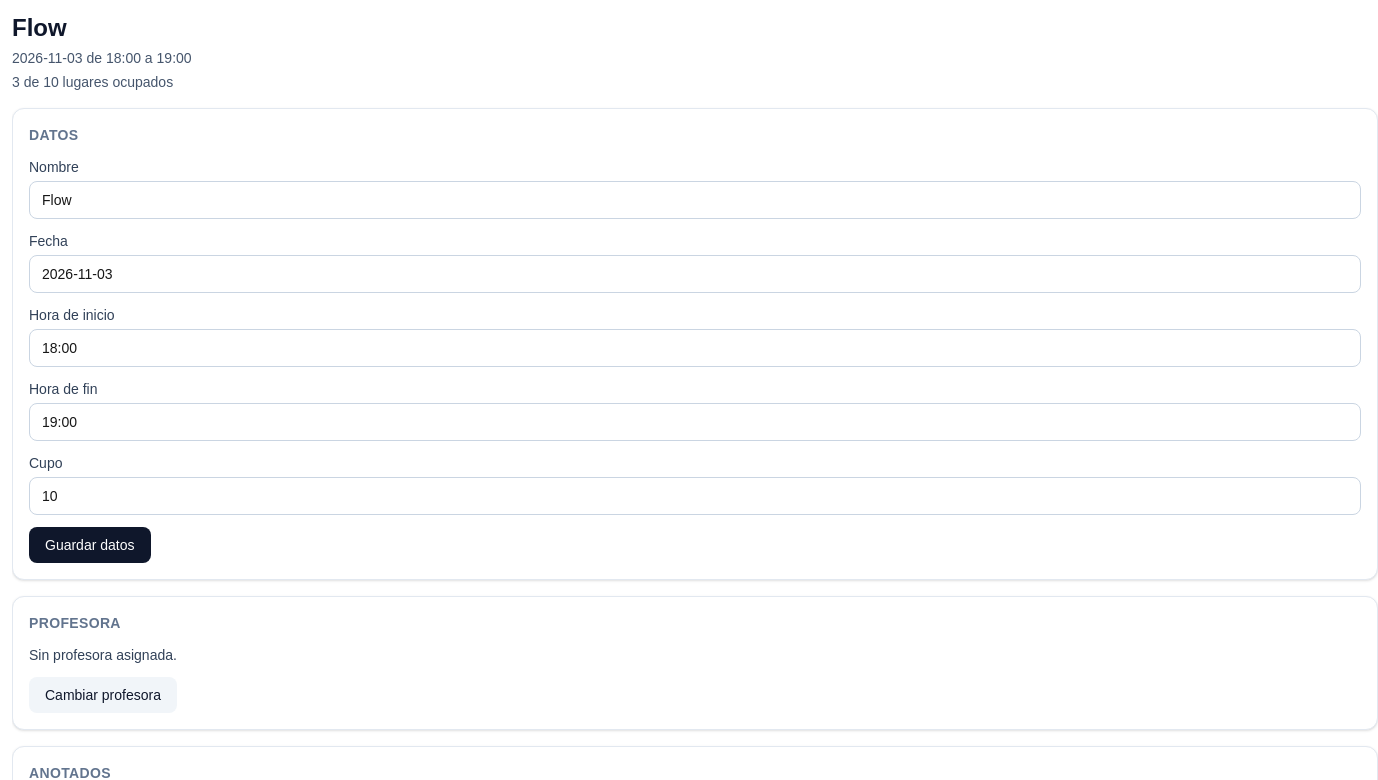
el bloque de datos › bajar el cupo por debajo de los anotados muestra el motivo de la API
The image size is (1378, 780).
Replace the text in the field labelled "Cupo" with "2" at (695, 496), box [29,477,1361,515]
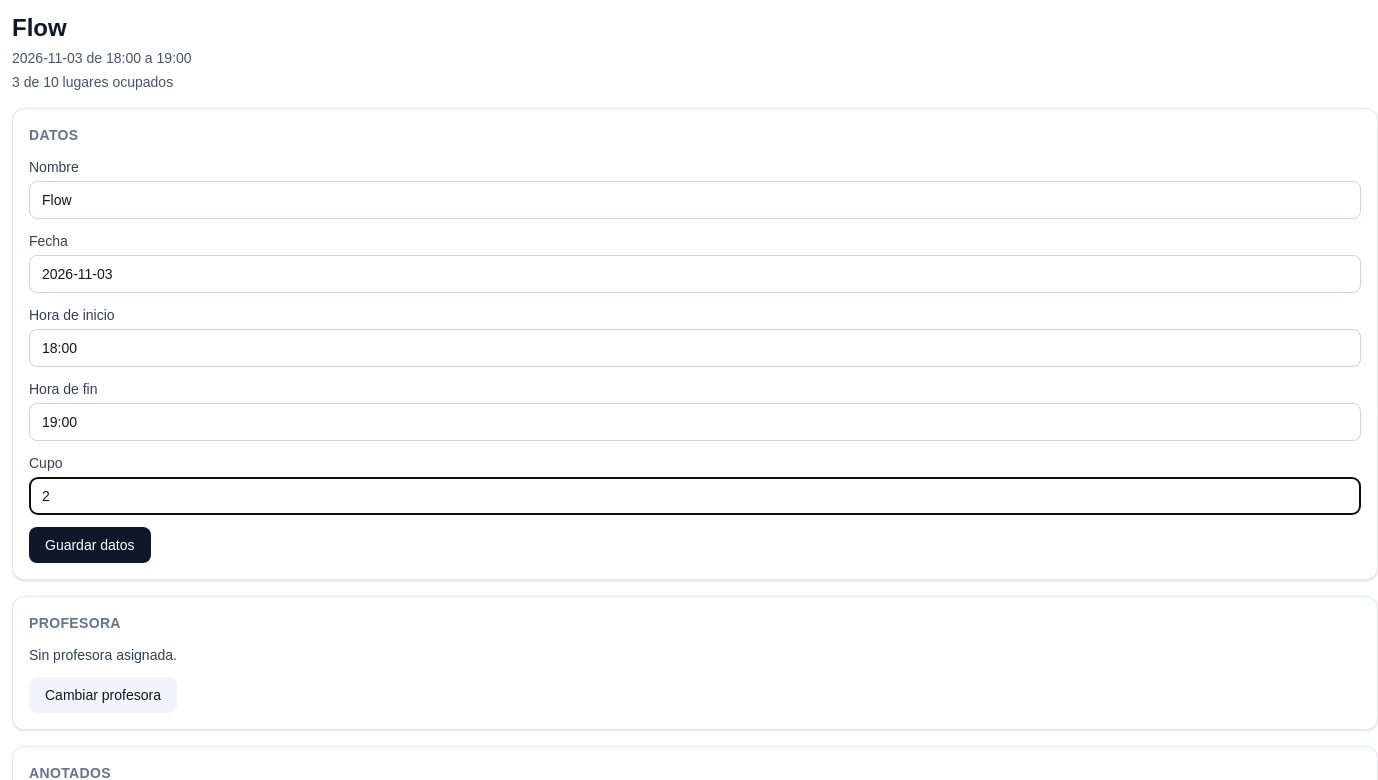
Click the button "Guardar datos" at (90, 545), box [29,527,150,563]
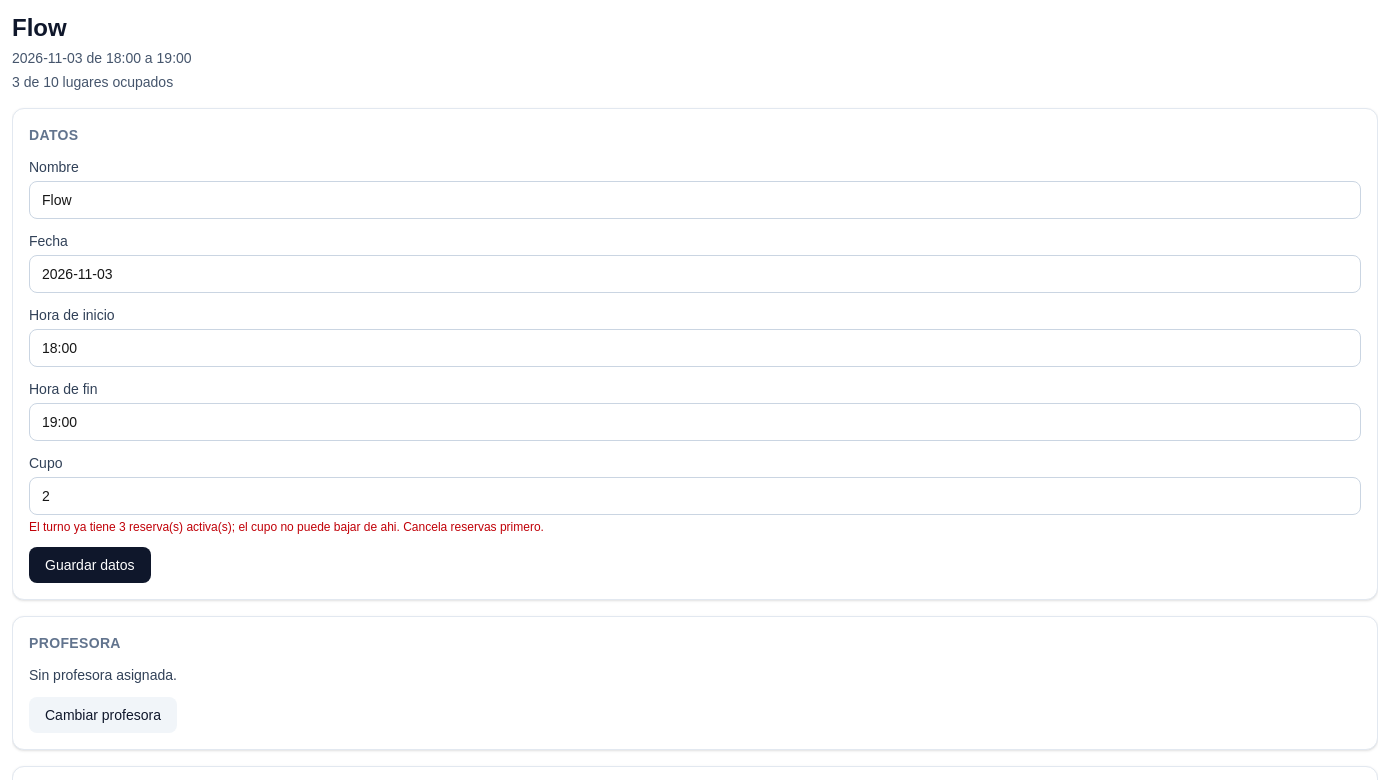
Result: the text "3 reserva(s) activa(s)" is shown at [29,520,544,534]
